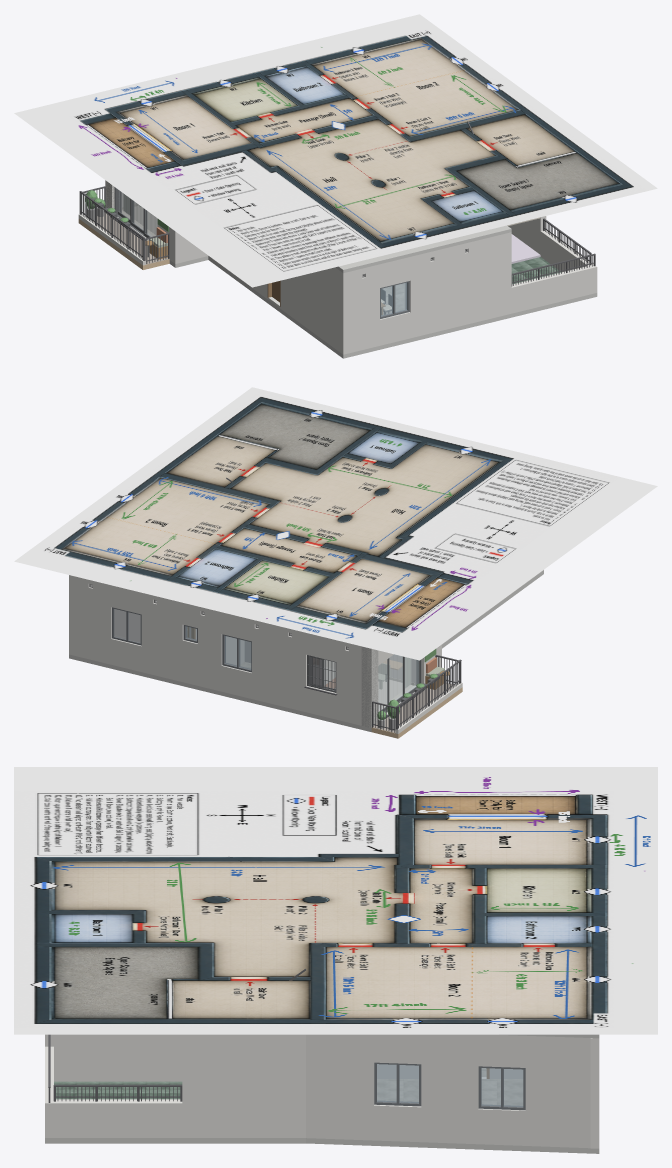
File: MyFlat_V1_3_Hall_LongLasting.glb
The picture shows the model from 3 angles, top to bottom: view 1: azimuth 30°, elevation 25°; view 2: azimuth 150°, elevation 25°; view 3: azimuth 270°, elevation 25°; orthographic projection. The views are drawn at different scales.
Visible parts, largest first — view 1: PLAN_REFERENCE_OVERLAY, WALL_EXT_S_HALL, WALL_EXT_W_HALL, PARAPET_OPENSQ_S, SLAB_FLOOR_STRUCTURAL, BALCONY_RAILING_W, SLAB_ROOF, PARAPET_OPENSQ_E, R1_DEF_BALCONY_FLOOR_FINISH, RAILING_OPENSQ_S, WALL_EXT_E_STAIR, HL_OPENSQ_FINISH (+4 smaller); view 2: PLAN_REFERENCE_OVERLAY, WALL_EXT_N_R2, WALL_EXT_N_R1, WALL_EXT_N_KIT, WALL_EXT_N_B2, SLAB_FLOOR_STRUCTURAL, BALCONY_RAILING_W, PILLAR_R1_NW, R1_DEF_BALCONY_CURTAIN_SHEER, WALL_EXT_W_R1_BALCONY, WINDOW_W4_GLASS, R1_DEF_BALCONY_FLOOR_FINISH (+3 smaller); view 3: PLAN_REFERENCE_OVERLAY, WALL_EXT_E_R2_TAPERED, WALL_EXT_E_STAIR, WALL_INT_OPENSQ_W, PARAPET_OPENSQ_E, SLAB_FLOOR_STRUCTURAL, HL_OPENSQ_FINISH, HL_FLOOR_R2_FINISH, WINDOW_W5_GLASS, WINDOW_W6_GLASS, RAILING_OPENSQ_E, WALL_EXT_N_R2 (+4 smaller).
Boxes of the visible parts, box(x1,y1,x2,y2) form: PLAN_REFERENCE_OVERLAY: box(14, 14, 657, 287); WALL_EXT_S_HALL: box(340, 232, 511, 354); WALL_EXT_W_HALL: box(209, 256, 348, 354); PARAPET_OPENSQ_S: box(511, 264, 597, 313); SLAB_FLOOR_STRUCTURAL: box(169, 256, 597, 358); BALCONY_RAILING_W: box(79, 191, 144, 260); SLAB_ROOF: box(335, 225, 511, 273); PARAPET_OPENSQ_E: box(540, 230, 593, 272); R1_DEF_BALCONY_FLOOR_FINISH: box(93, 212, 168, 264); RAILING_OPENSQ_S: box(511, 253, 595, 286); WALL_EXT_E_STAIR: box(508, 216, 546, 254); HL_OPENSQ_FINISH: box(511, 257, 561, 284); PLAN_REFERENCE_OVERLAY: box(14, 387, 657, 660); WALL_EXT_N_R2: box(69, 575, 171, 679); WALL_EXT_N_R1: box(265, 623, 372, 727); WALL_EXT_N_KIT: box(208, 609, 264, 701); WALL_EXT_N_B2: box(172, 600, 208, 688); SLAB_FLOOR_STRUCTURAL: box(69, 570, 543, 731); BALCONY_RAILING_W: box(396, 659, 461, 729); PILLAR_R1_NW: box(361, 646, 378, 727); R1_DEF_BALCONY_CURTAIN_SHEER: box(378, 654, 411, 708); WALL_EXT_W_R1_BALCONY: box(362, 647, 438, 727); WINDOW_W4_GLASS: box(114, 609, 140, 642); R1_DEF_BALCONY_FLOOR_FINISH: box(373, 683, 454, 732); PLAN_REFERENCE_OVERLAY: box(14, 767, 657, 1034); WALL_EXT_E_R2_TAPERED: box(306, 1034, 590, 1148); WALL_EXT_E_STAIR: box(182, 1034, 305, 1137); WALL_INT_OPENSQ_W: box(54, 1034, 182, 1081); PARAPET_OPENSQ_E: box(54, 1099, 182, 1137); SLAB_FLOOR_STRUCTURAL: box(45, 1138, 599, 1153); HL_OPENSQ_FINISH: box(54, 1081, 182, 1099); HL_FLOOR_R2_FINISH: box(377, 1079, 523, 1105); WINDOW_W5_GLASS: box(481, 1068, 523, 1106); WINDOW_W6_GLASS: box(377, 1064, 418, 1103); RAILING_OPENSQ_E: box(53, 1084, 182, 1101); WALL_EXT_N_R2: box(590, 1038, 599, 1148).
Size of what is drawn, in the model's own units: 16.28 by 4.33 by 16.55.
111 materials, 6 textured.
